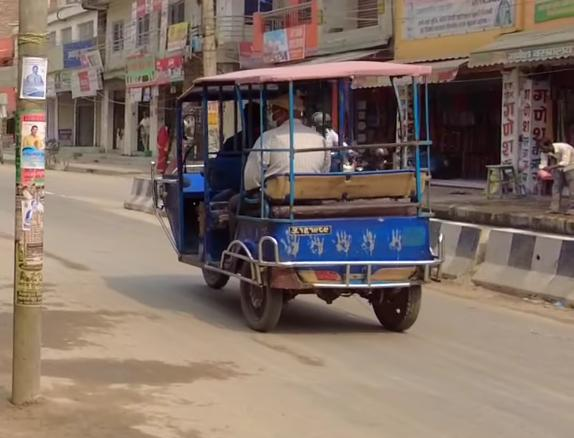e-rickshaw: (148, 57, 436, 336)
